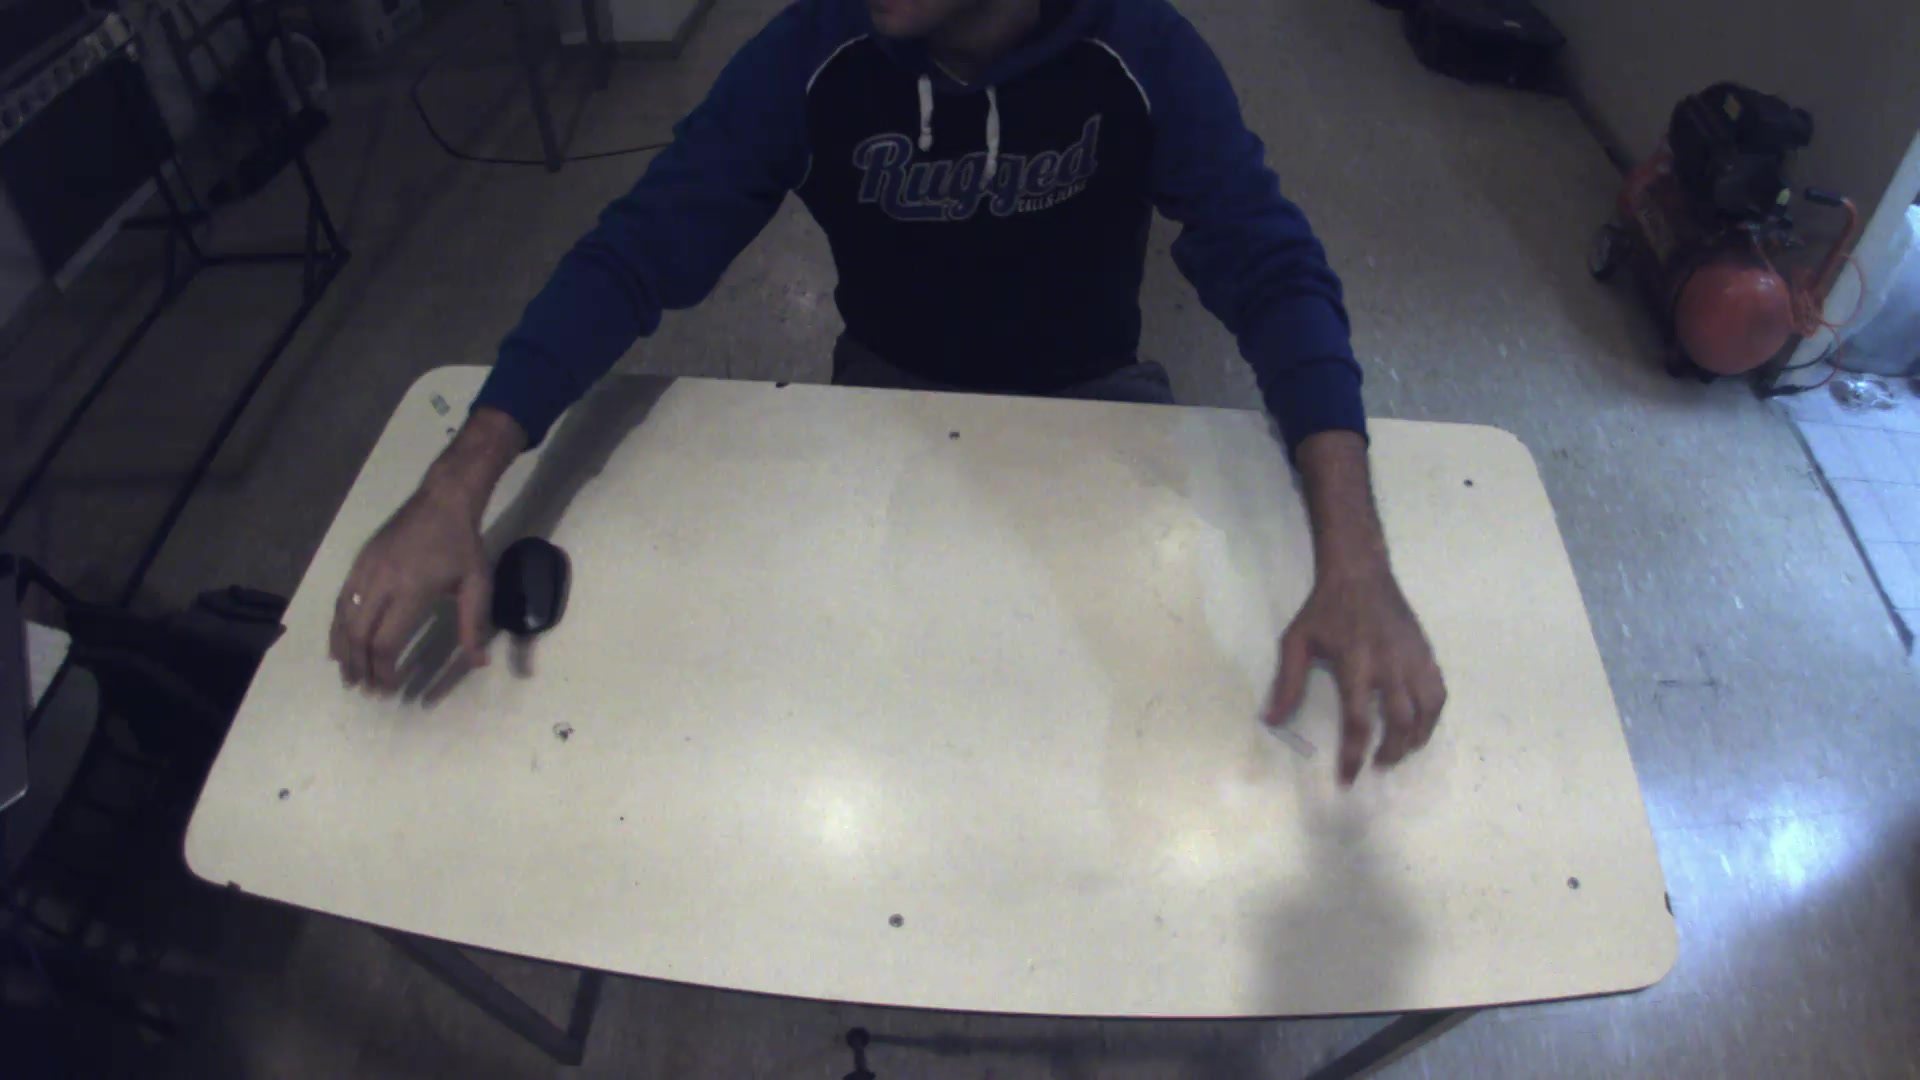hand: (316, 405, 522, 717), (1262, 550, 1460, 793)
